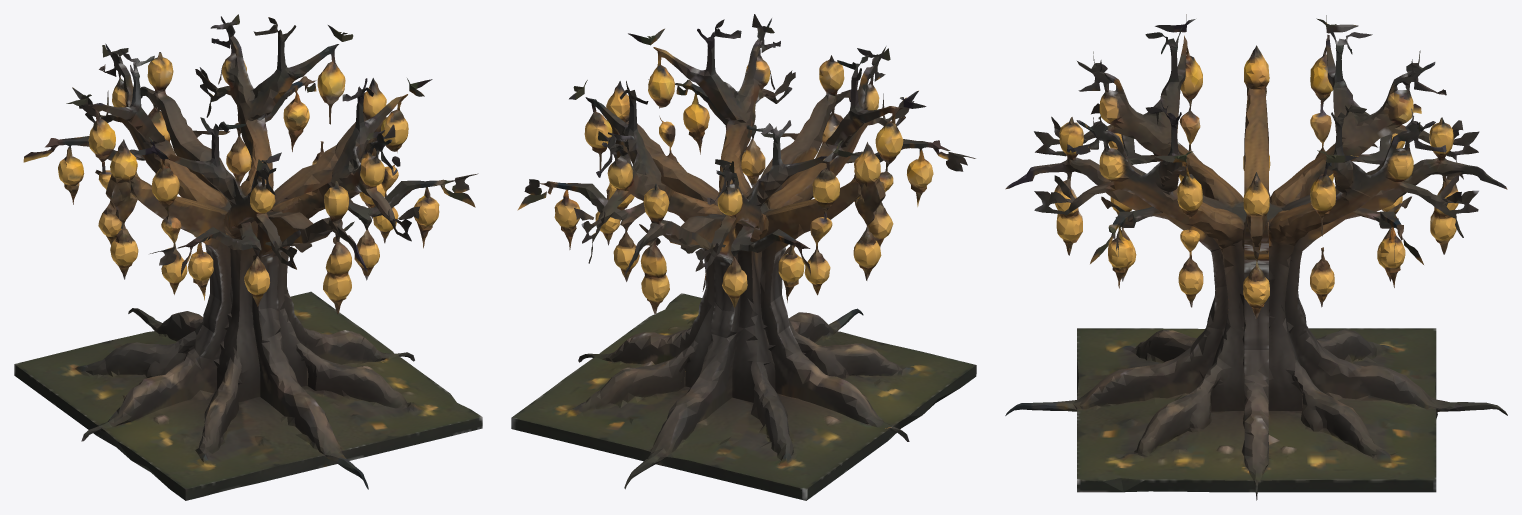
File: rodin_lanterntree_raw.glb
3 renders of one model, left to right at view 1: azimuth 30°, elevation 25°; view 2: azimuth 150°, elevation 25°; view 3: azimuth 270°, elevation 25°, orthographic. The views are drawn at different scales.
Parts seen in each view (by area): view 1: model; view 2: model; view 3: model.
Part boxes in pixels (x1,y1,x2,y2): model: (14, 14, 482, 500); model: (511, 14, 976, 500); model: (1005, 14, 1507, 500).
Size of the model in its own units: 1.52 by 1.44 by 1.89.
Materials: 1 (1 with a texture image).
